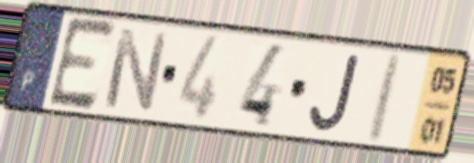4: (233, 39, 288, 131), (174, 31, 223, 125)
E: (44, 14, 120, 114)
I: (361, 49, 406, 147)
J: (308, 51, 364, 135)
N: (100, 25, 171, 116)
